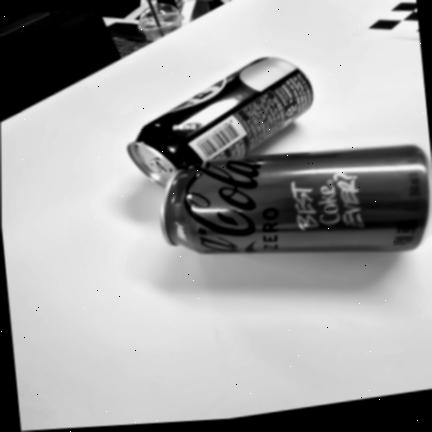can_coke_zero: (161, 145, 432, 255)
can_pepsi_zero: (128, 57, 313, 186)
